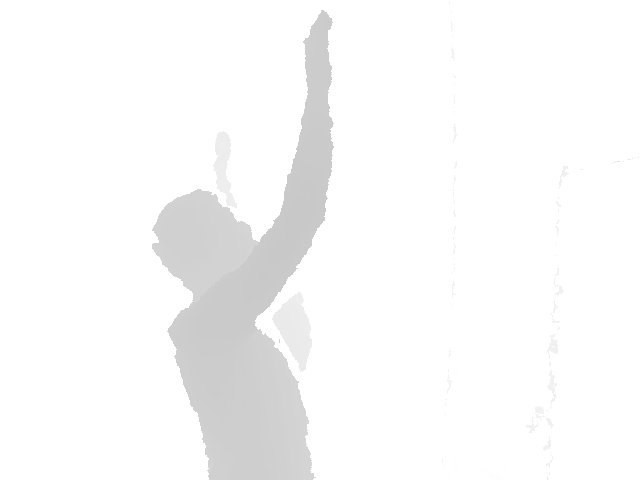hand: (303, 11, 333, 101), (212, 134, 234, 197)
head: (152, 188, 255, 297)
person: (151, 11, 335, 480), (212, 130, 312, 373)
